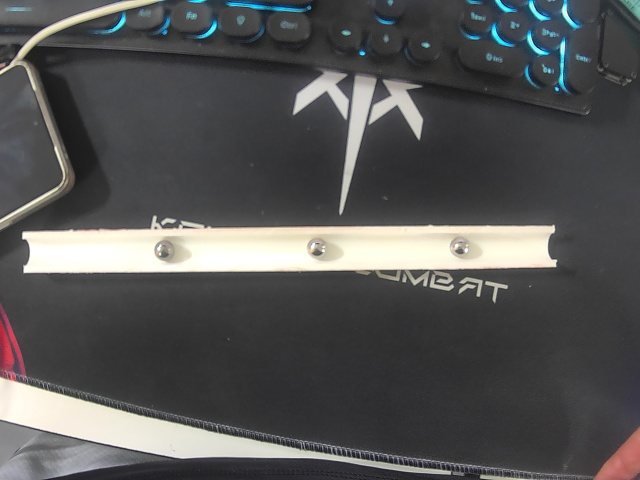steelball: (306, 236, 328, 260), (449, 235, 471, 258), (154, 239, 176, 261)
